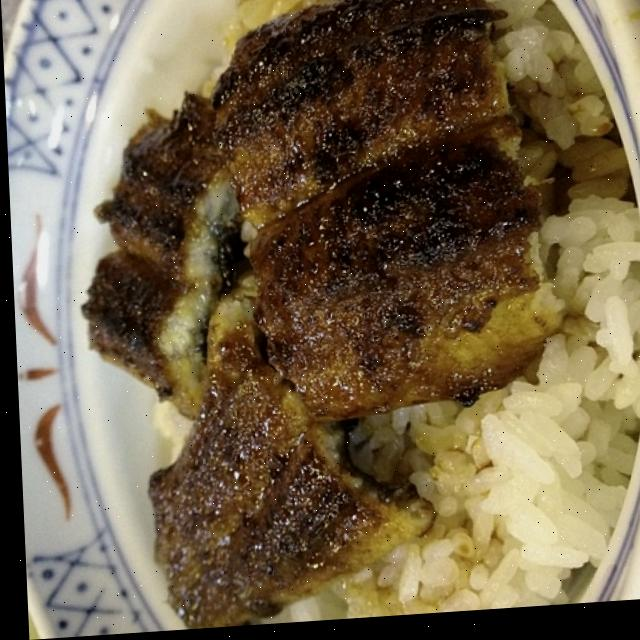米饭主食: (60, 0, 598, 396)
面条主食: (65, 373, 444, 637)
